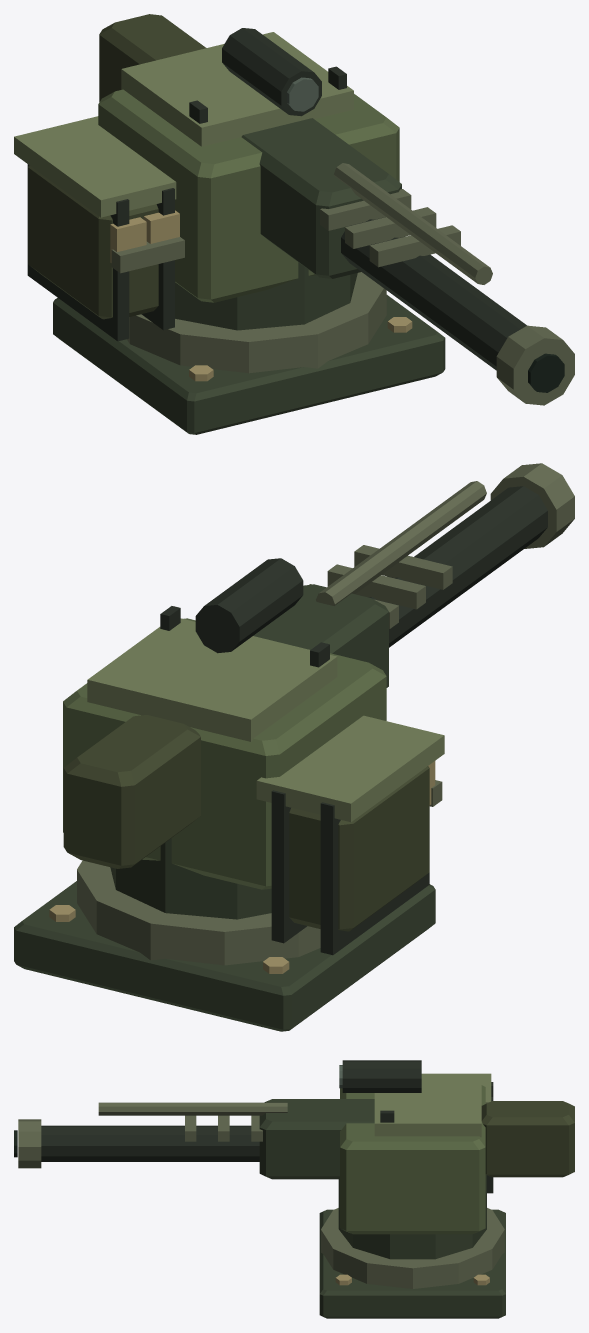
File: assaultRifle.obj
3 views of the same model, one above another, from view 1: azimuth 30°, elevation 25°; view 2: azimuth 150°, elevation 25°; view 3: azimuth 270°, elevation 25° (orthographic). The views are drawn at different scales.
Visible parts, largest first — view 1: MOVING.004, BASE.011; view 2: MOVING.004, BASE.011; view 3: MOVING.004, BASE.011.
Boxes of the visible parts, x1,y1,x2,y2 form: MOVING.004: [14, 14, 574, 405]; BASE.011: [53, 272, 445, 434]; MOVING.004: [63, 463, 574, 955]; BASE.011: [14, 860, 435, 1031]; MOVING.004: [14, 1060, 574, 1259]; BASE.011: [319, 1208, 505, 1318].
Bounding box in the file's own units: 0.9225 × 0.935 × 2.2.
1 material, 1 textured.
